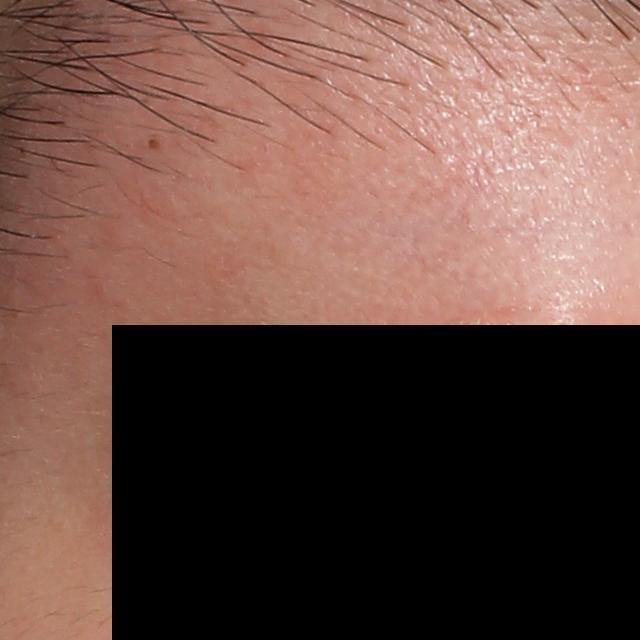nevus: (146, 137, 163, 151)
